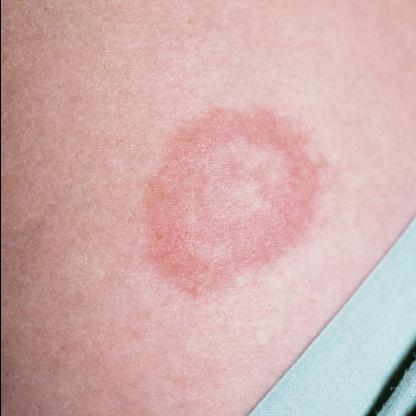Tick: (137, 100, 335, 304)
